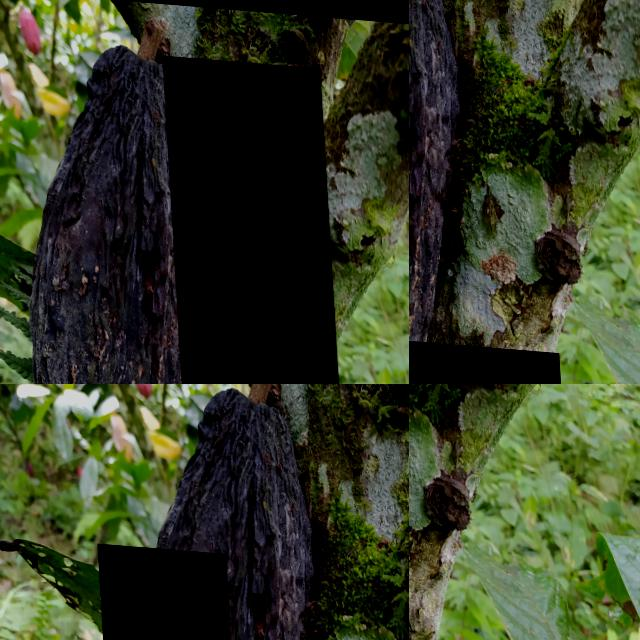Fitoftora: (162, 50, 337, 384), (94, 541, 241, 640)
Monilia: (409, 142, 534, 324)
